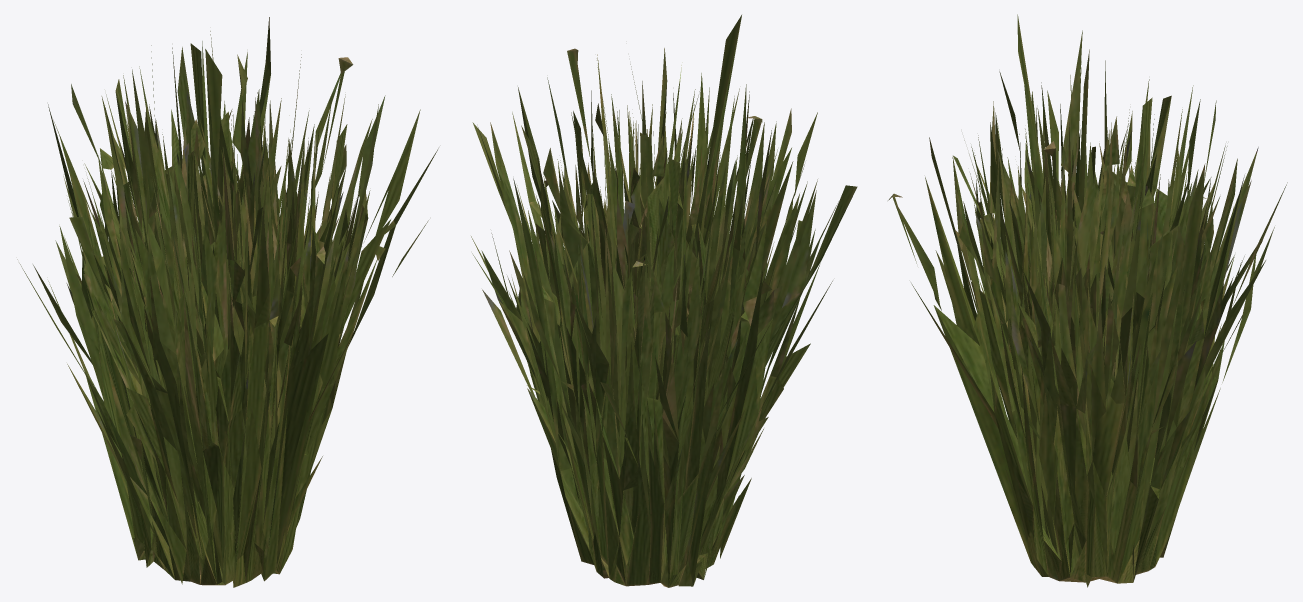
Rendered from junco_recoger.glb.
3 views of the same model, side by side, from view 1: azimuth 30°, elevation 25°; view 2: azimuth 150°, elevation 25°; view 3: azimuth 270°, elevation 25° (orthographic). The views are drawn at different scales.
Bounding box in the file's own units: 1.37 × 1.86 × 1.29.
Materials: 1 (1 with a texture image).
